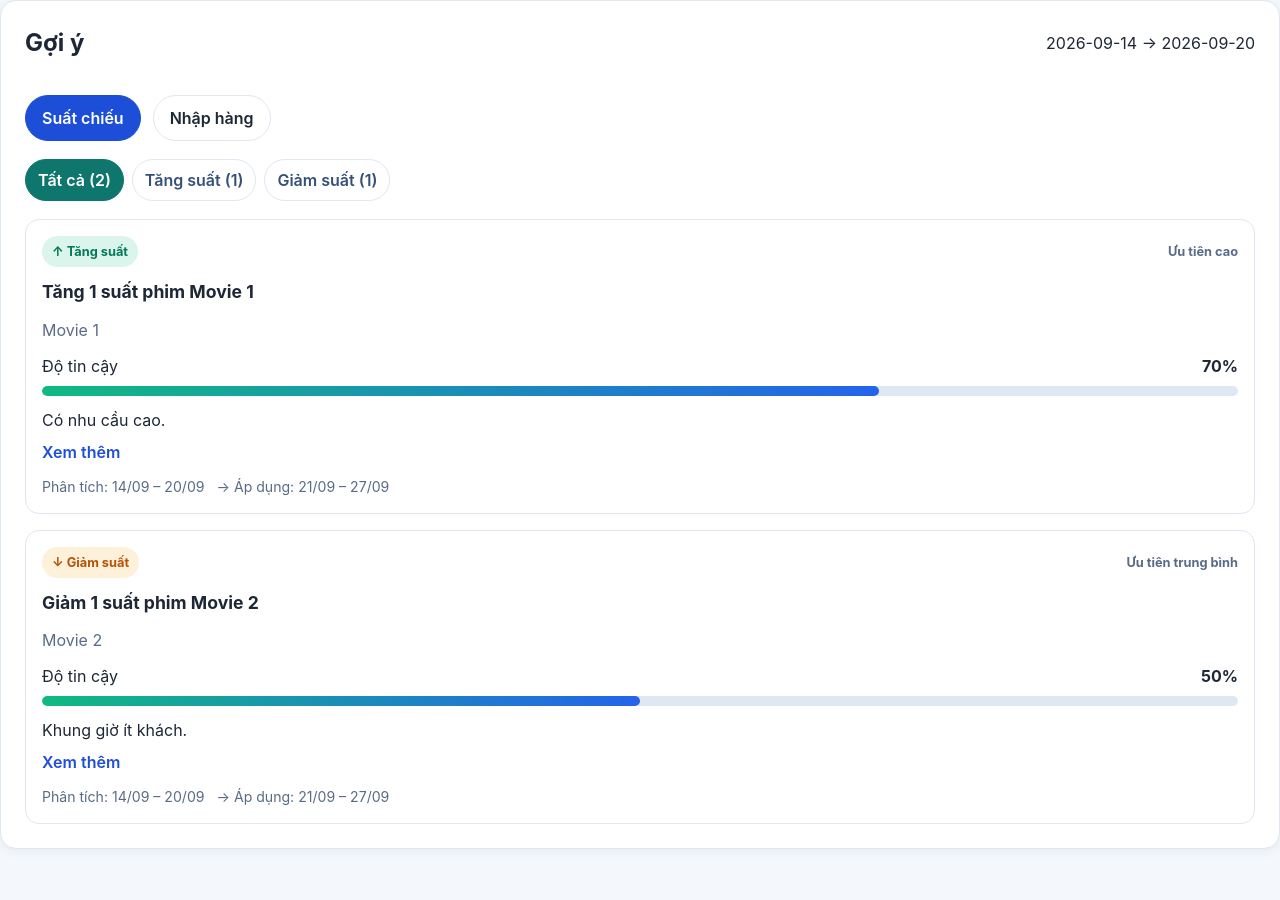
it: RecommendationPage › shows the correct showtime filter counts and empty state text
Check: the button "Tất cả (2)" is shown, box x1=25 y1=159 x2=124 y2=201
Check: the button "Tăng suất (1)" is shown, box x1=132 y1=159 x2=256 y2=201
What coordinates should you click on to do the following:
click the button "Giảm suất (1)"
I would click on:
 (327, 180)
Its box is x1=264 y1=159 x2=390 y2=201.
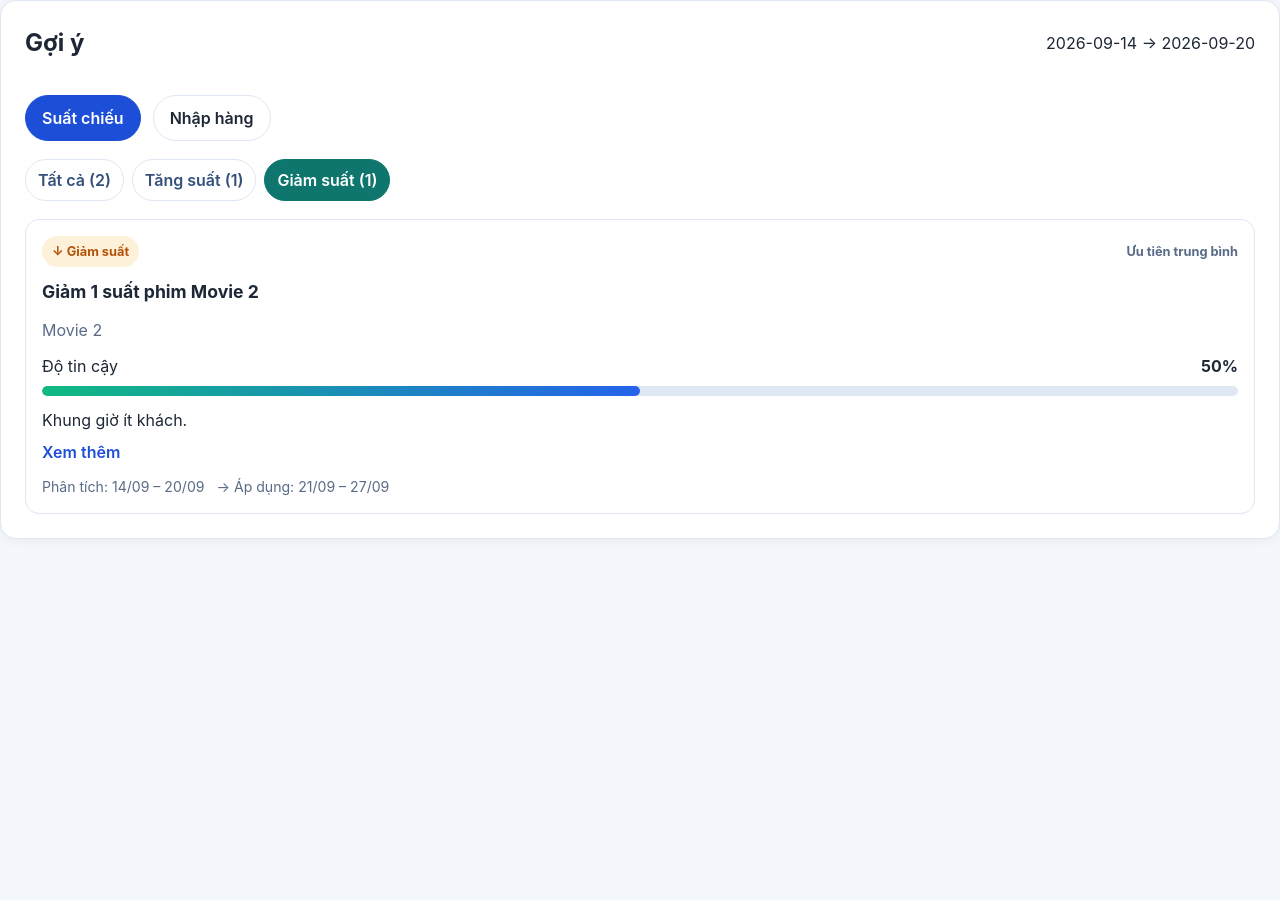
Check: the heading "Giảm 1 suất phim Movie 2" is shown, box x1=42 y1=281 x2=259 y2=302
Check: the heading "Tăng 1 suất phim Movie 1" is gone
